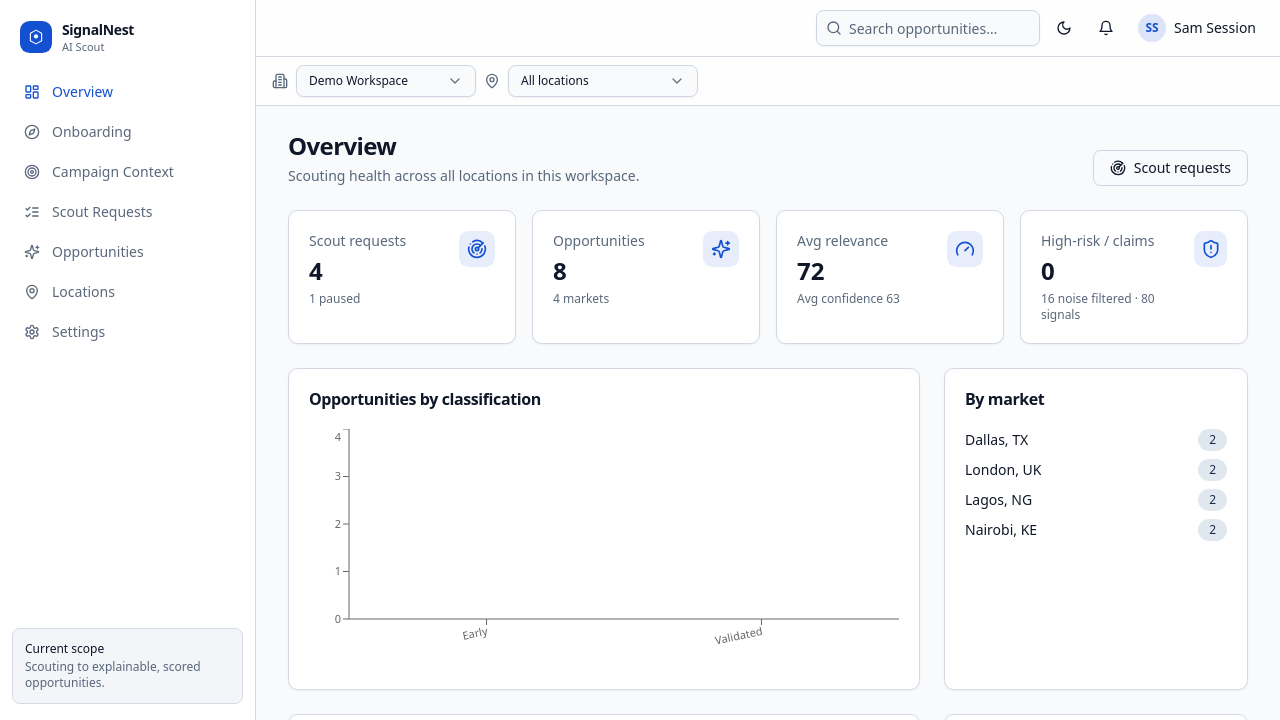
Scenario: no session-ended notice where none ended (P6-UI-013) › shows only the sign-out-everywhere notice when that request finds the session already ended (401)
Click the button with aria-label "account menu" at (1197,28), box [1130,10,1264,46]
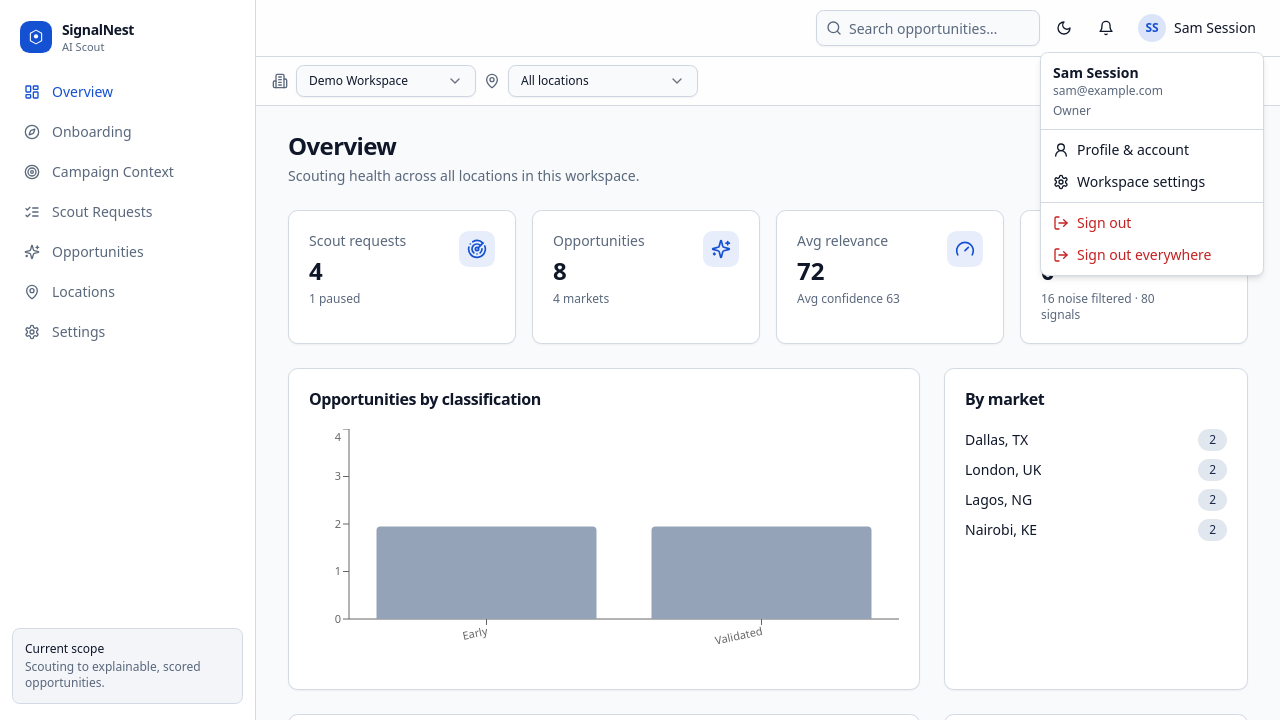
Click the menu item "Sign out everywhere" at (1132,254), box [1053,245,1212,264]
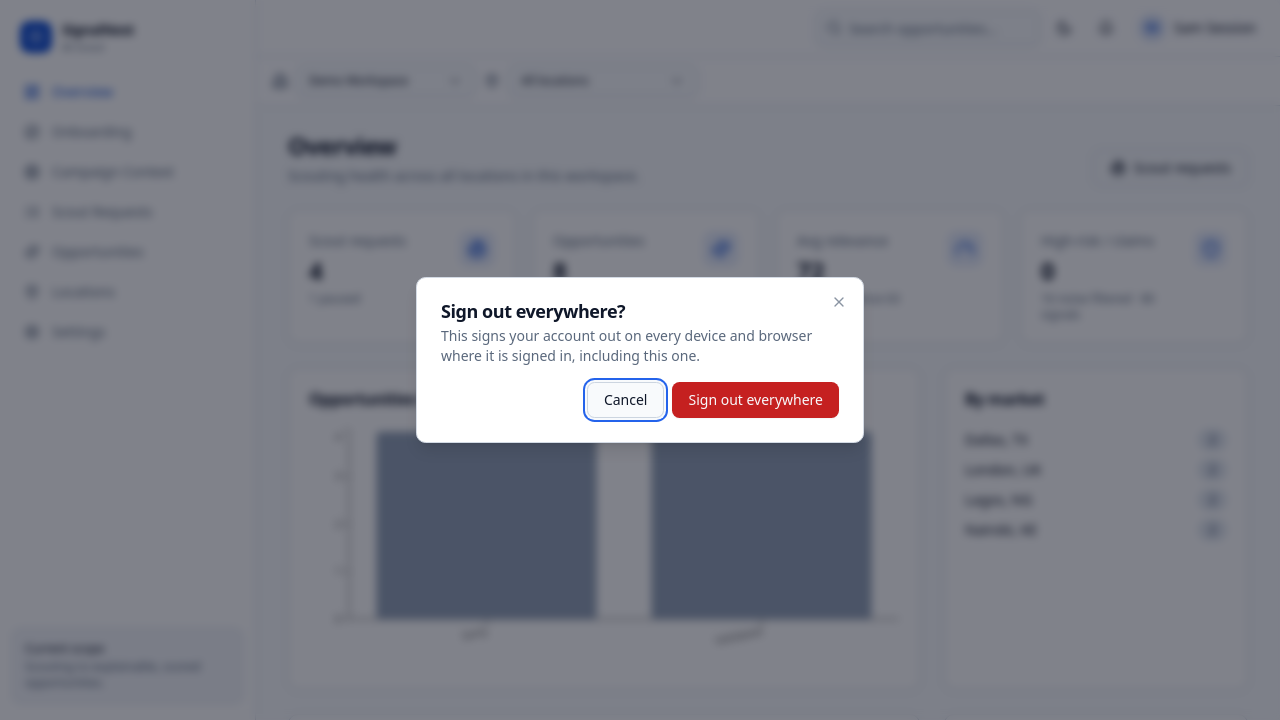
Click the button "Sign out everywhere" at (756,400), box [672,382,839,418]
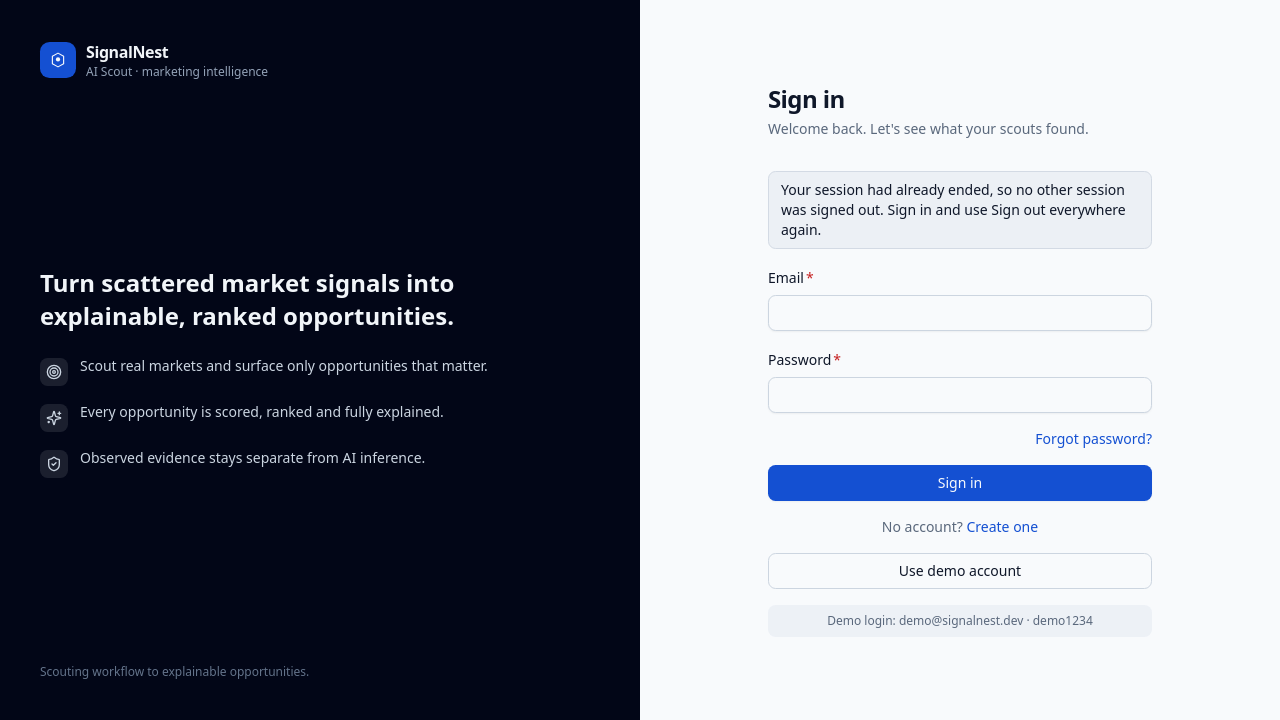
Check: the text "Your session had already ended" is shown, box [781,180,1126,239]
